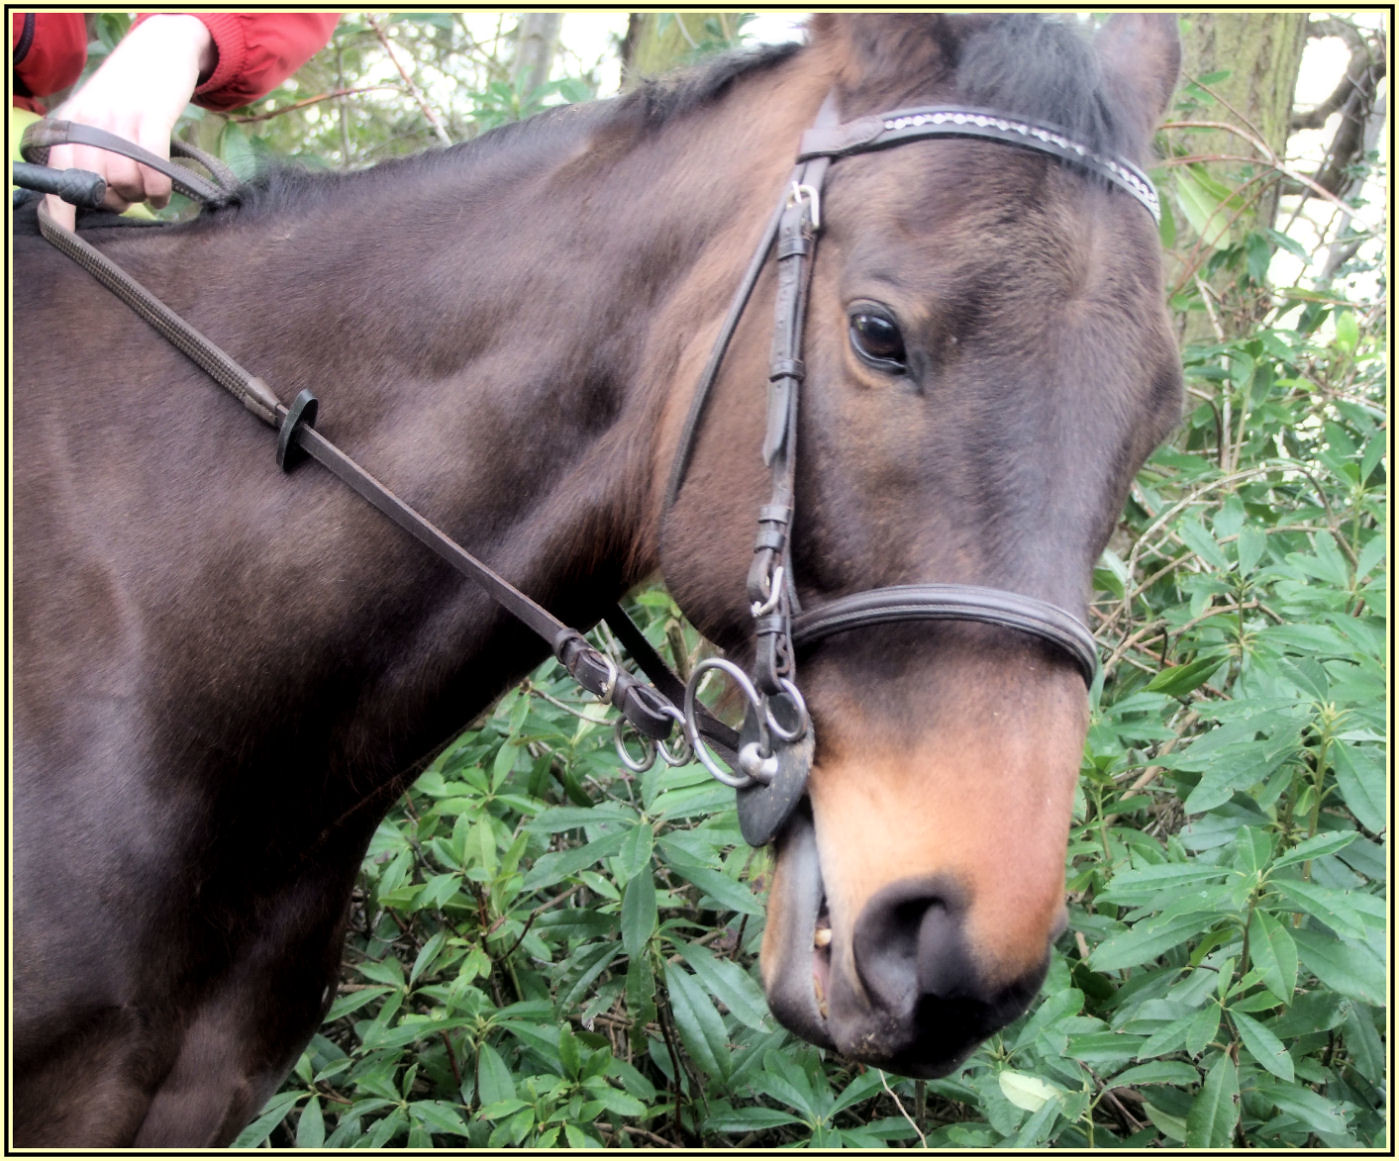horse: (15, 20, 1199, 1133)
